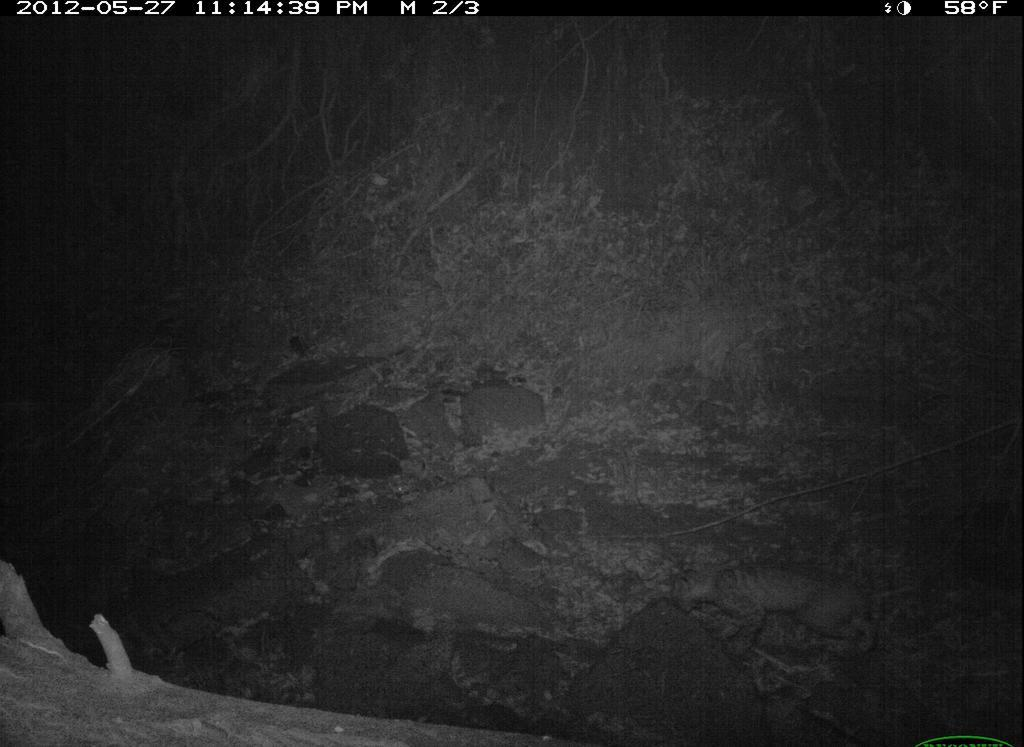bobcat: (665, 552, 873, 658)
